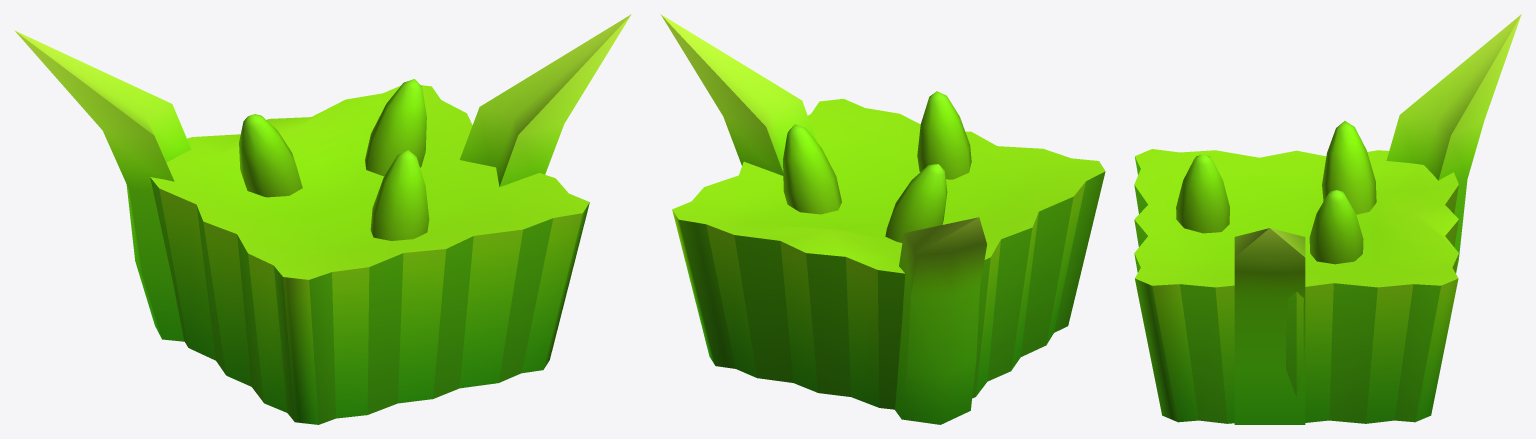
The model's file is Farm_Crop_Corn_Step_02.glb.
3 views of the same model, side by side, from view 1: azimuth 30°, elevation 25°; view 2: azimuth 150°, elevation 25°; view 3: azimuth 270°, elevation 25° (orthographic). The views are drawn at different scales.
Visible parts, largest first — view 1: Farm_Crop_Corn_Step_02; view 2: Farm_Crop_Corn_Step_02; view 3: Farm_Crop_Corn_Step_02.
Boxes of the visible parts, x1=… form: Farm_Crop_Corn_Step_02: x1=14, y1=14, x2=631, y2=424; Farm_Crop_Corn_Step_02: x1=660, y1=14, x2=1105, y2=424; Farm_Crop_Corn_Step_02: x1=1134, y1=14, x2=1521, y2=424.
Bounding box in the file's own units: 3.12 × 1.75 × 2.39.
1 material, 1 textured.
